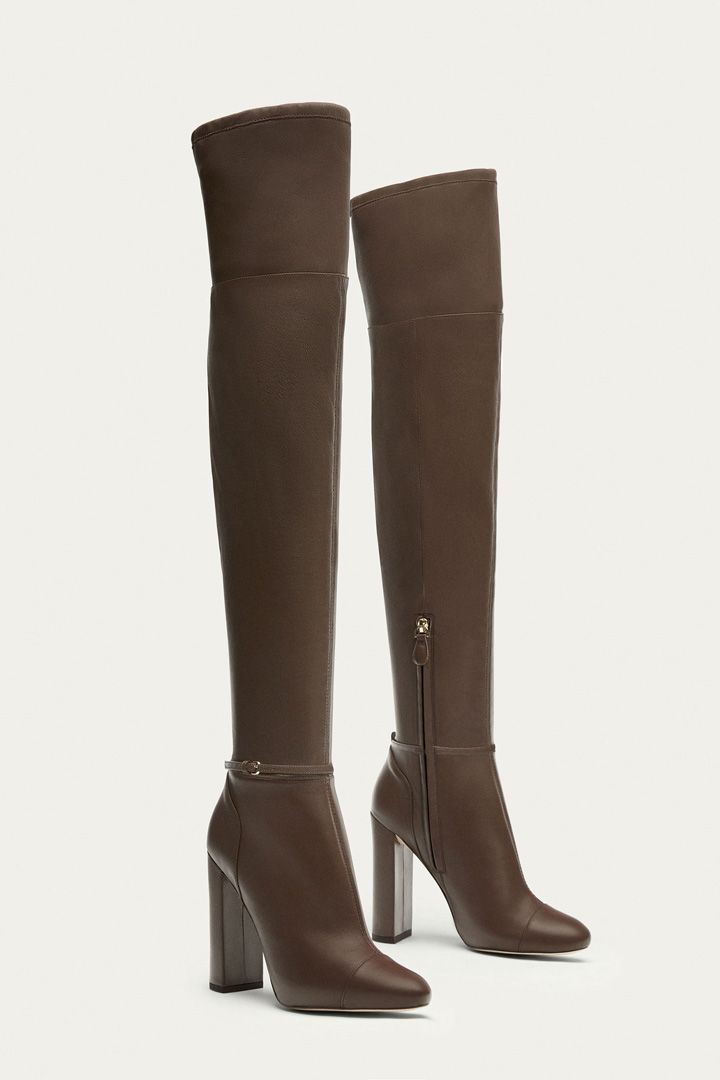cuero: (188, 98, 590, 1009)
